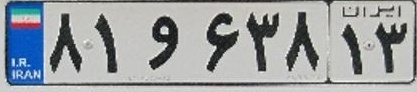character: (187, 8, 245, 76), (133, 9, 186, 74), (87, 9, 132, 79), (45, 8, 86, 80), (282, 7, 324, 75), (242, 7, 282, 75), (372, 19, 411, 77), (337, 23, 368, 78)
